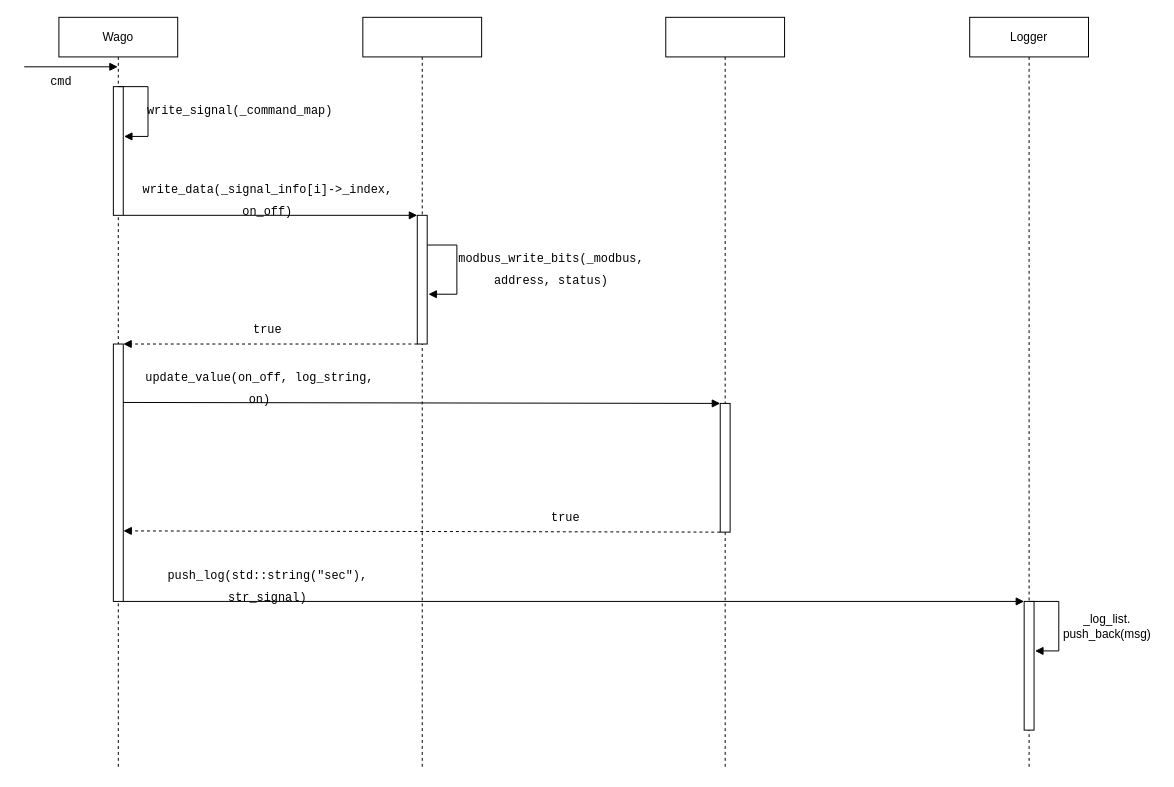
The diagram is 1174 pixels wide and 787 high, and some of its shapes have lost their labels. Each missing label, with the box of its shape:
ModbusWrapper: (362, 16, 482, 770)
SignalInfo: (665, 16, 785, 770)
